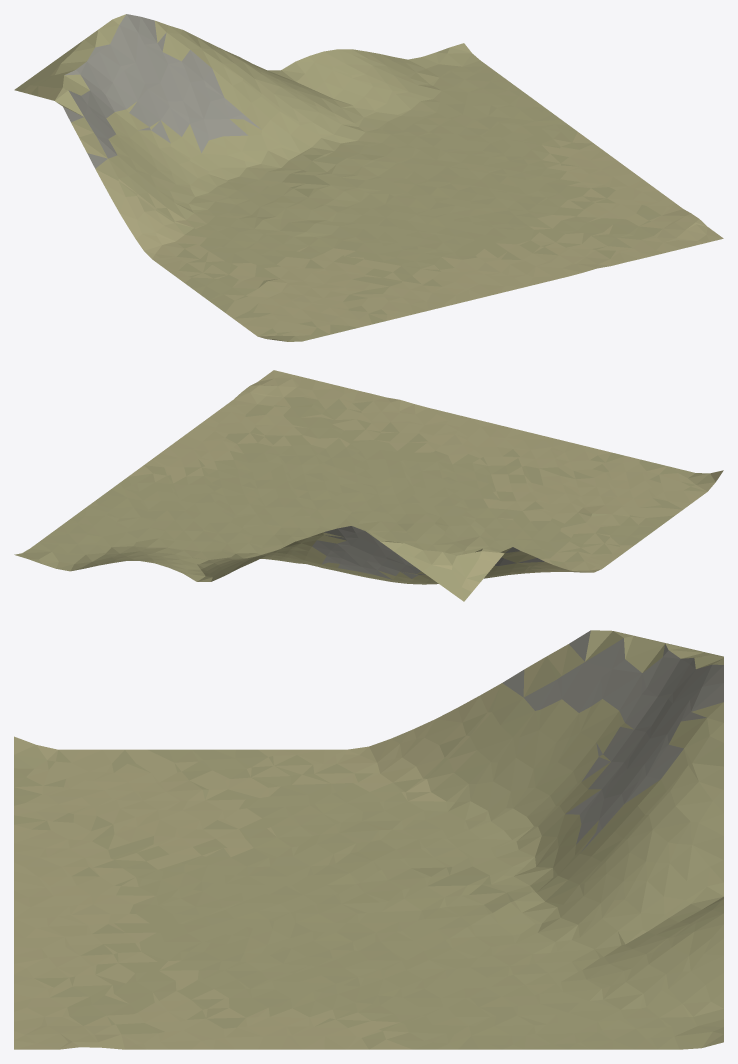
File: Ground_-2_4.glb
3 views of the same model, one above another, from view 1: azimuth 30°, elevation 25°; view 2: azimuth 150°, elevation 25°; view 3: azimuth 270°, elevation 25° (orthographic). The views are drawn at different scales.
Parts seen in each view (by area): view 1: Ground_-2_4; view 2: Ground_-2_4; view 3: Ground_-2_4.
Boxes of the visible parts, x1,y1,x2,y2 form: Ground_-2_4: (14, 14, 723, 341); Ground_-2_4: (14, 370, 723, 601); Ground_-2_4: (14, 630, 723, 1049).
Bounding box in the file's own units: 768 × 190 × 768.
